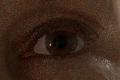eye: (46, 30, 78, 54)
